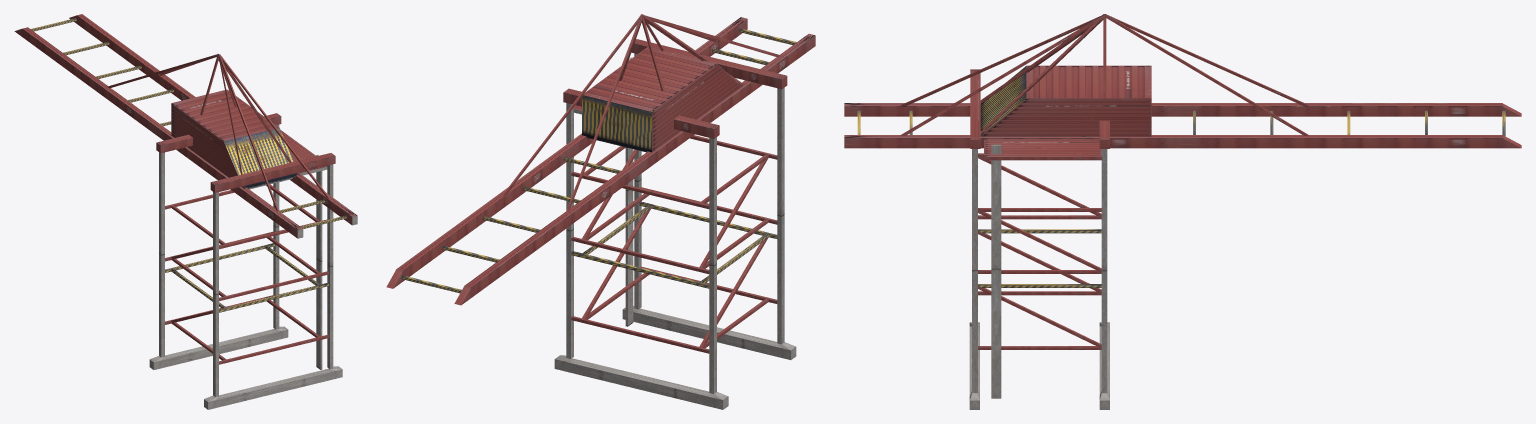
The model's file is nia_docks_crane.FBX.
3 views of the same model, side by side, from view 1: azimuth 30°, elevation 25°; view 2: azimuth 150°, elevation 25°; view 3: azimuth 270°, elevation 25° (orthographic). The views are drawn at different scales.
Parts seen in each view (by area): view 1: Box001; view 2: Box001; view 3: Box001.
Part boxes in pixels (x1,y1,x2,y2): Box001: [14, 14, 357, 409]; Box001: [386, 14, 815, 409]; Box001: [844, 14, 1521, 409].
Size of the model in its own units: 148 by 313 by 540.
